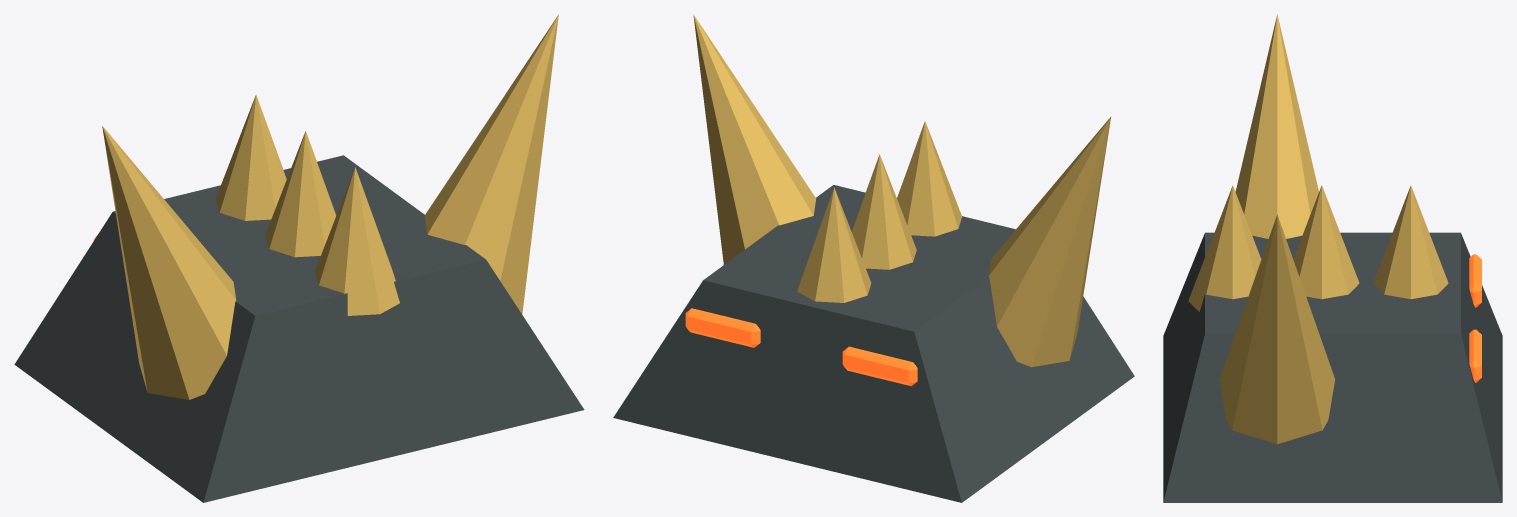
The model's file is acc_dragonhelm.glb.
3 views of the same model, side by side, from view 1: azimuth 30°, elevation 25°; view 2: azimuth 150°, elevation 25°; view 3: azimuth 270°, elevation 25° (orthographic). The views are drawn at different scales.
Parts seen in each view (by area): view 1: acc_dragonhelm_RunningGear.008, acc_dragonhelm_TrophyGold.003; view 2: acc_dragonhelm_RunningGear.008, acc_dragonhelm_TrophyGold.003, acc_dragonhelm_Lava.003; view 3: acc_dragonhelm_RunningGear.008, acc_dragonhelm_TrophyGold.003, acc_dragonhelm_Lava.003.
Boxes of the visible parts, box(x1,y1,x2,y2) form: acc_dragonhelm_RunningGear.008: box(14, 155, 584, 502); acc_dragonhelm_TrophyGold.003: box(102, 14, 558, 399); acc_dragonhelm_RunningGear.008: box(613, 185, 1134, 502); acc_dragonhelm_TrophyGold.003: box(693, 14, 1111, 367); acc_dragonhelm_Lava.003: box(685, 308, 917, 386); acc_dragonhelm_RunningGear.008: box(1163, 232, 1502, 502); acc_dragonhelm_TrophyGold.003: box(1188, 14, 1448, 444); acc_dragonhelm_Lava.003: box(1469, 254, 1481, 382).
Bounding box in the file's own units: 0.8508 × 0.6057 × 0.61.
